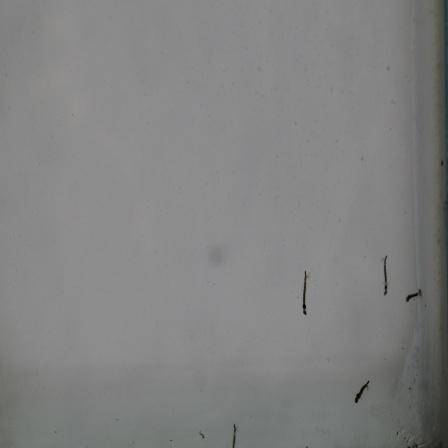Jentik-Nyamuk: (298, 267, 311, 317), (380, 251, 393, 298), (352, 378, 372, 407), (403, 287, 426, 306)
